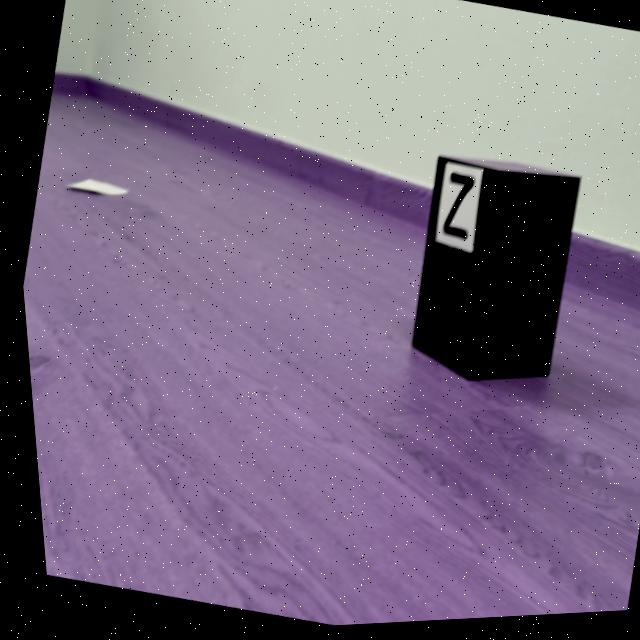Z: (438, 177, 470, 245)
